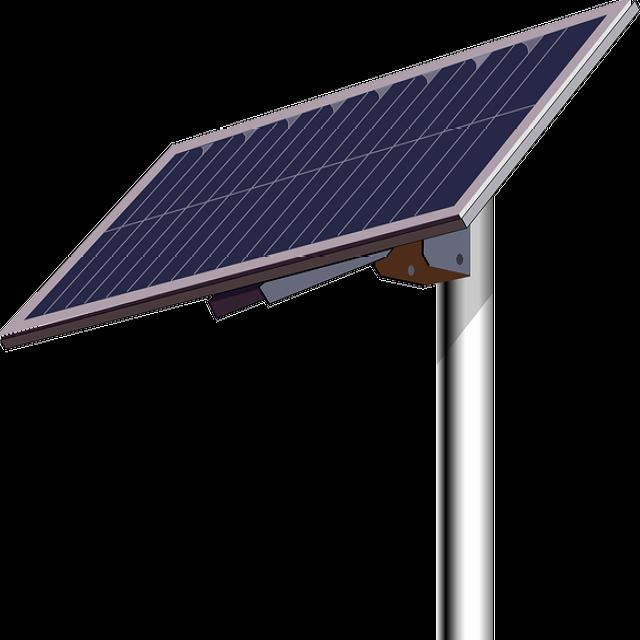clean-solar-panel: (0, 0, 640, 350)
